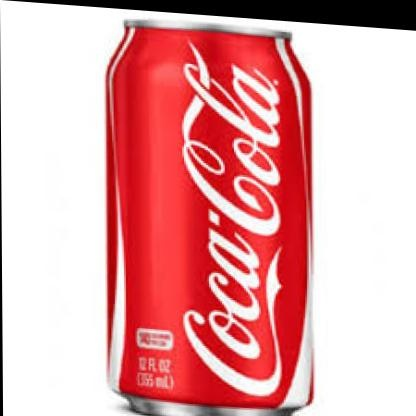trash: (107, 22, 312, 415)
